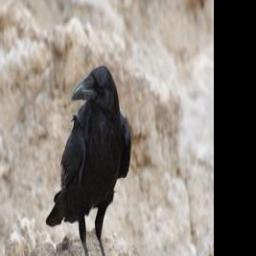Crow: (45, 63, 130, 256)
